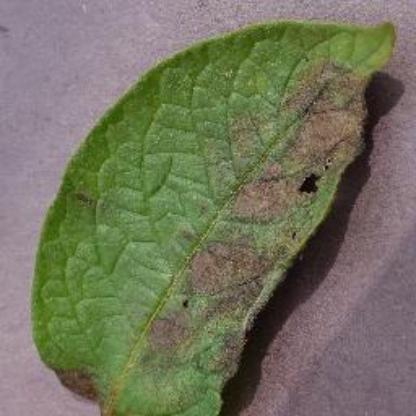Late-Blight: (29, 19, 401, 415)
